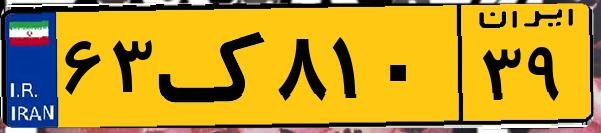0: (385, 28, 445, 110)
1: (330, 28, 385, 110)
3: (475, 38, 525, 113), (110, 28, 158, 98)
6: (57, 26, 110, 100)
8: (270, 28, 330, 110)
9: (525, 38, 570, 115)
ک: (158, 12, 270, 120)
